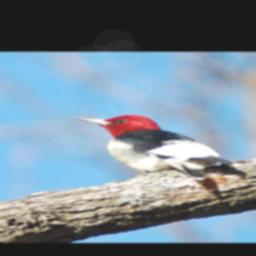Woodpecker: (69, 114, 235, 182)
